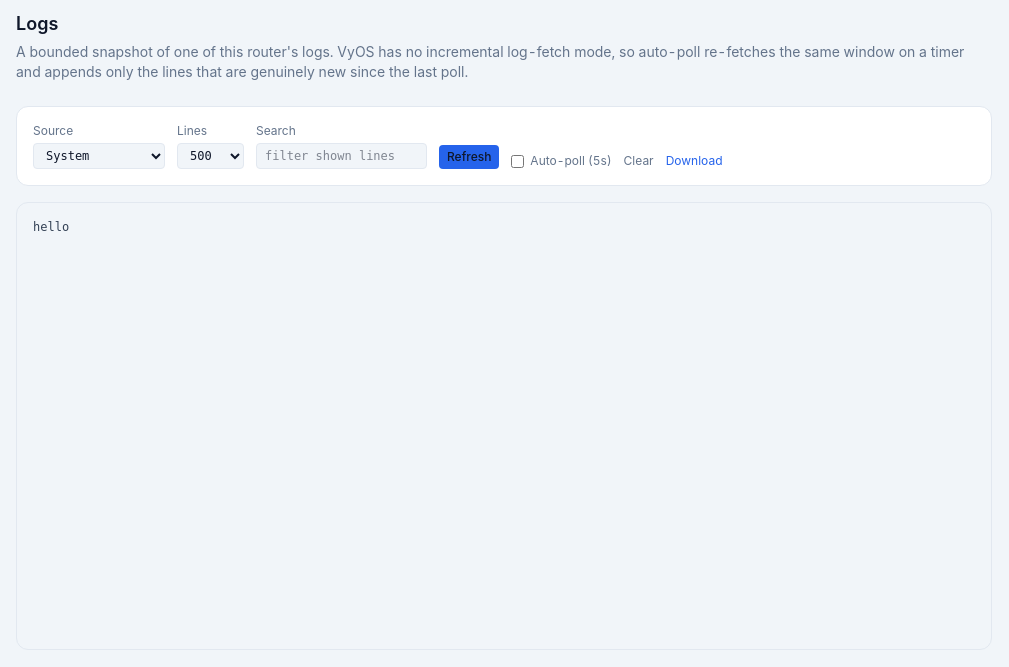
Test case: LogsPage › clears the displayed lines when Clear is clicked
This screenshot has width=1009, height=667.
What coordinates should you click on to do the following:
click the button "Clear"
I would click on:
 (639, 161)
Its box is [624,153,654,169].
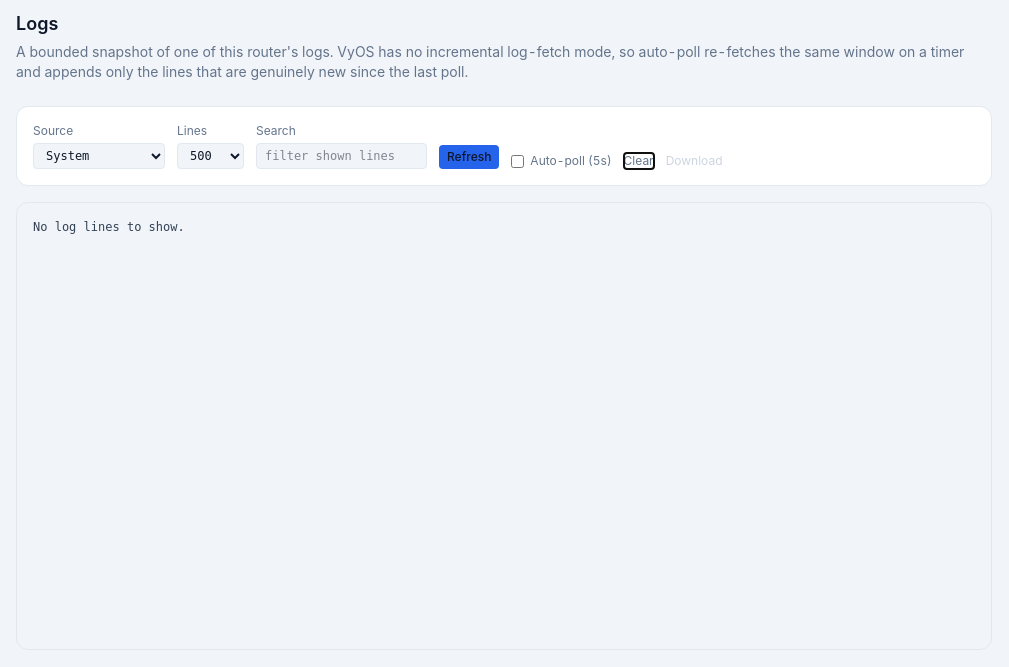
Now the text "hello" is gone
Now the text "No log lines to show." is shown
